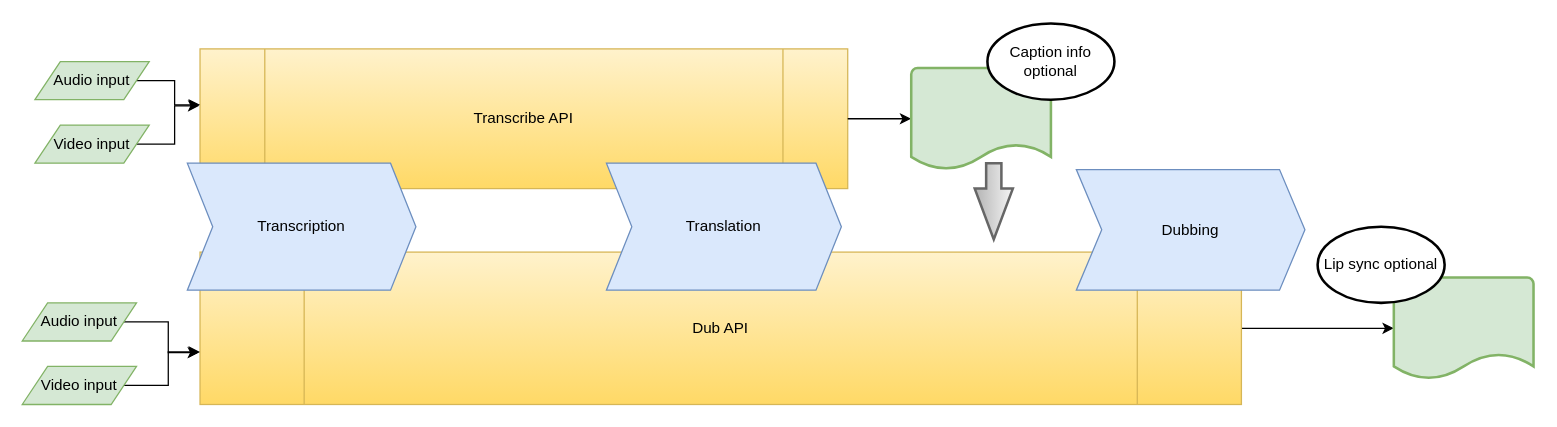
This 1557x427 diagram has some shape labels left out. Here are the shapes that lost their labels. From the top down, the box of each, then its label:
(909, 66, 1052, 170): Transcript
(1392, 276, 1534, 380): Dubbed Video
